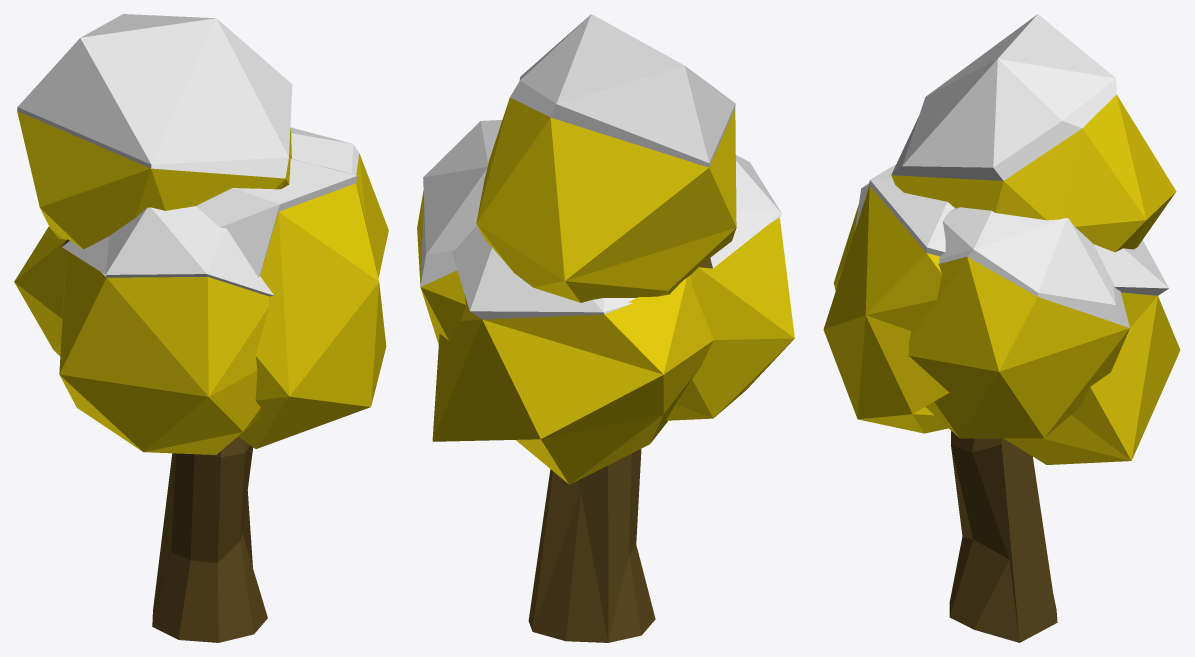
The model's file is Tree#3_Snow.fbx.
3 renders of one model, left to right at view 1: azimuth 30°, elevation 25°; view 2: azimuth 150°, elevation 25°; view 3: azimuth 270°, elevation 25°, orthographic. The views are drawn at different scales.
Visible parts, largest first — view 1: Tree#3_Snow; view 2: Tree#3_Snow; view 3: Tree#3_Snow.
Part boxes in pixels (bbox=[...]): Tree#3_Snow: bbox=[14, 14, 388, 642]; Tree#3_Snow: bbox=[417, 14, 794, 642]; Tree#3_Snow: bbox=[823, 14, 1180, 642].
Bounding box in the file's own units: 420 × 692 × 399.
